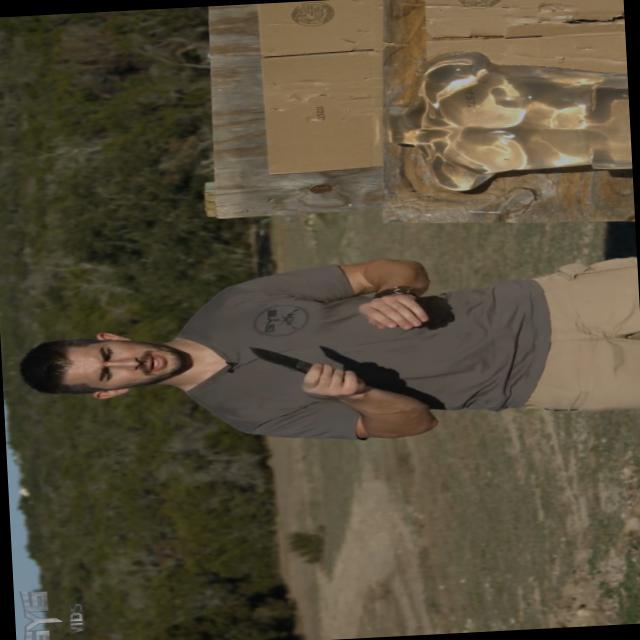knife: (235, 332, 366, 398)
